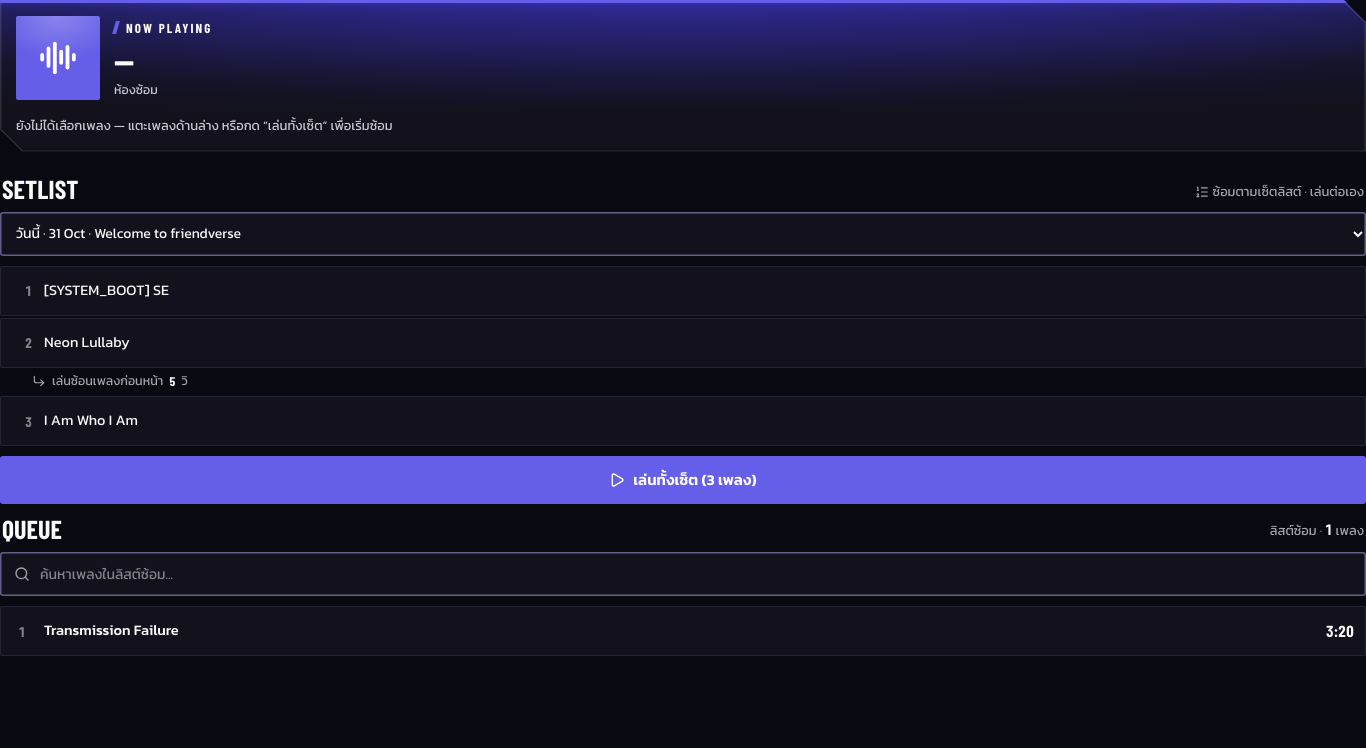
PracticePlayer — เล่นซ้อน: the bar's time ends where the next song comes in › 200 s with the next at -5 ends at 3:15, with a tick on the bar there
Click the button "เล่นทั้งเซ็ต (3 เพลง)".
click(683, 480)  # box [0, 456, 1365, 504]
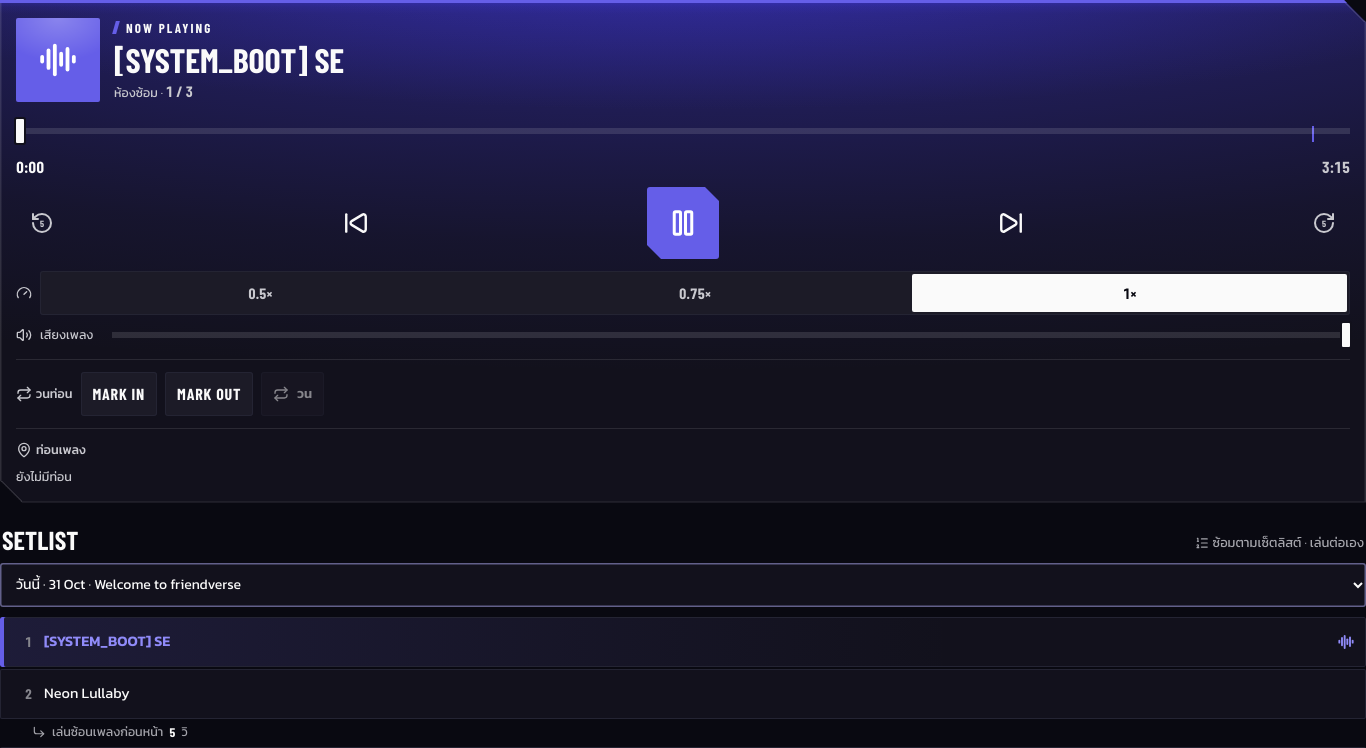
Check: the text with test id "song-ends-at" reads "3:15", box [1322, 157, 1350, 176]
Check: the icon with test id "hand-over-tick" is shown, box [1312, 126, 1314, 142]
